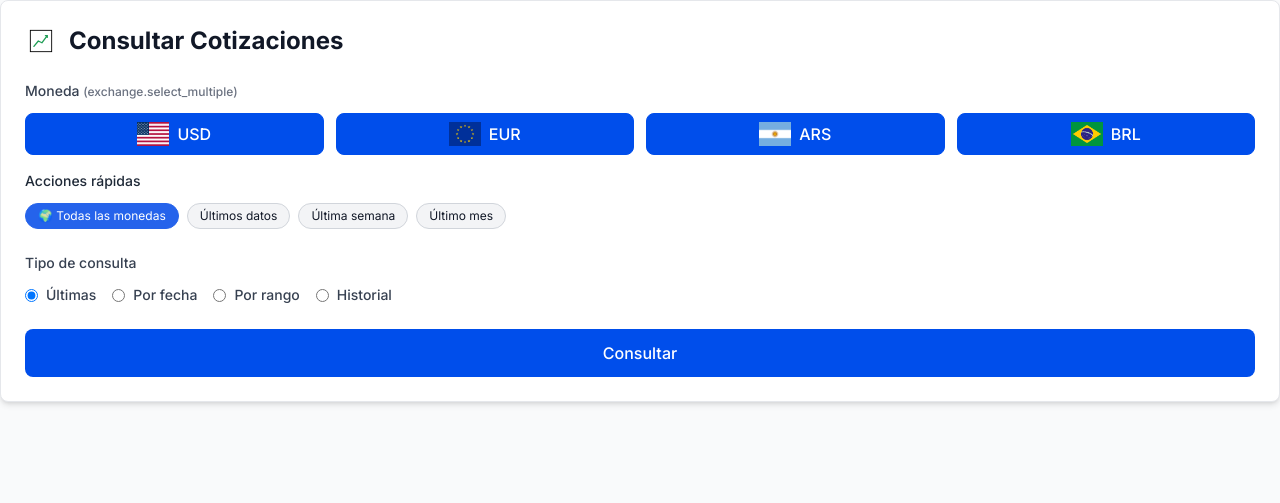
ExchangeSearchForm Component › Search Type Selection › switches to history type
Click the text "Historial" at (364, 295), box [337,285,392,305]
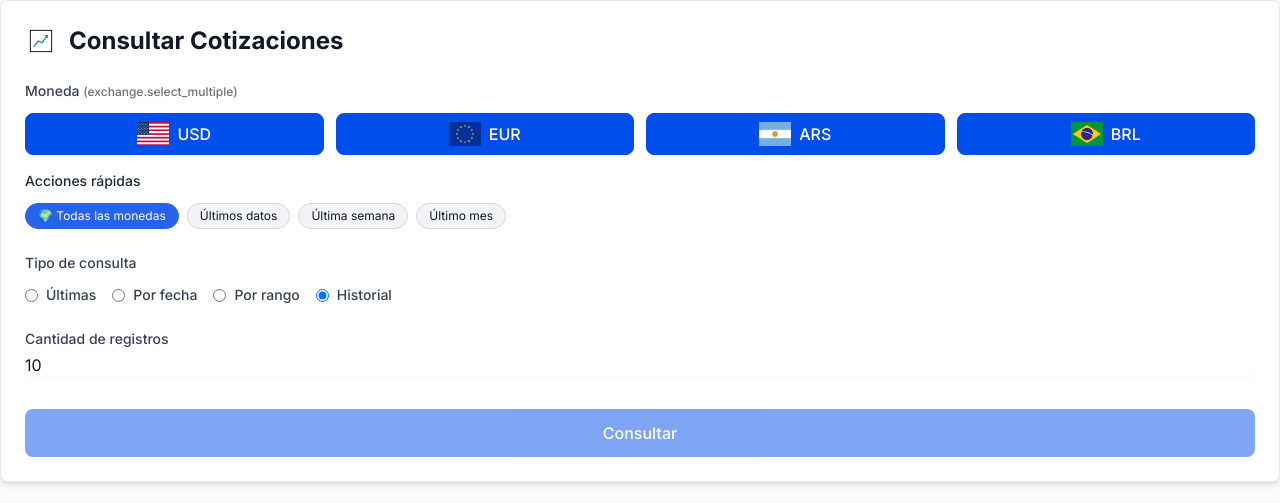
Expected: the number field labelled "Cantidad de registros" is shown, [25,353,1255,377]
